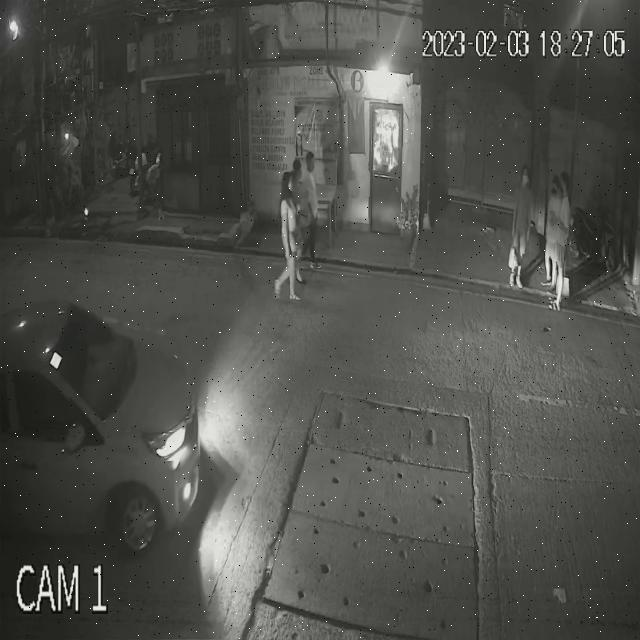garbage_dumping: (556, 268, 572, 298), (508, 240, 518, 277)
